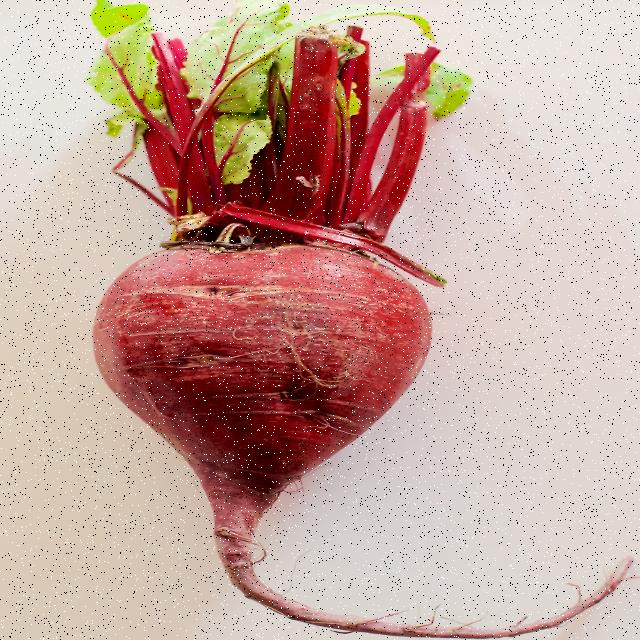Beetroot: (22, 117, 504, 620)
